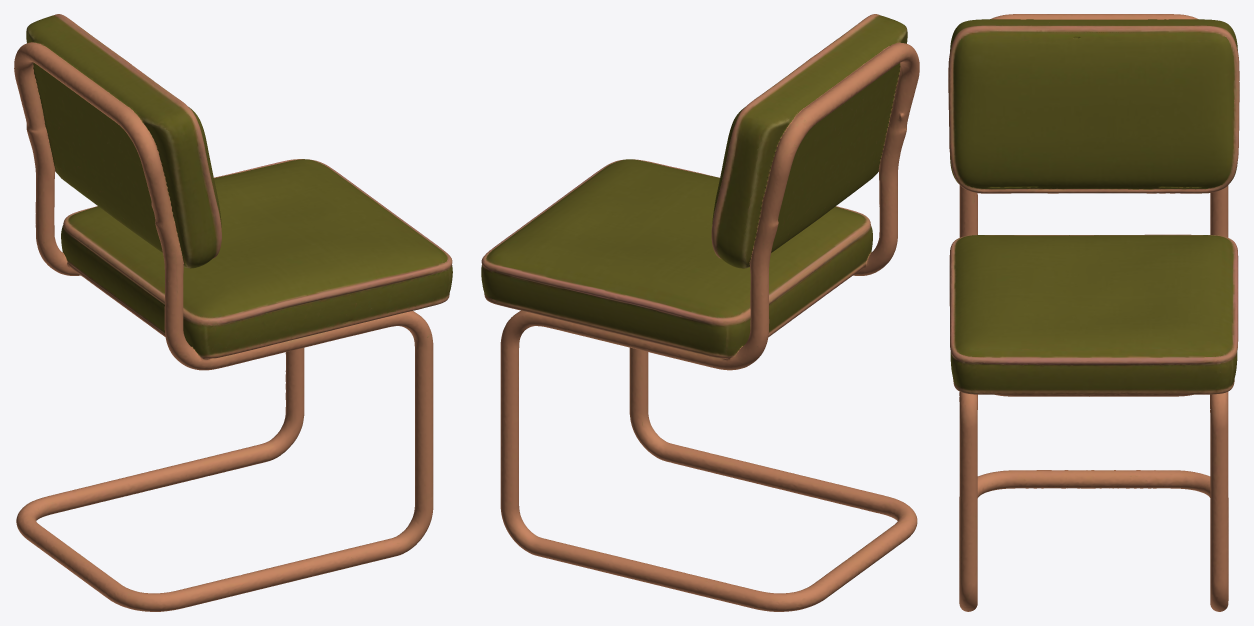
The model's file is chair-3.glb.
3 renders of one model, left to right at view 1: azimuth 30°, elevation 25°; view 2: azimuth 150°, elevation 25°; view 3: azimuth 270°, elevation 25°, orthographic. The views are drawn at different scales.
Parts seen in each view (by area): view 1: world; view 2: world; view 3: world.
Boxes of the visible parts, bbox=[...] form: world: bbox=[14, 14, 452, 611]; world: bbox=[481, 14, 919, 611]; world: bbox=[948, 14, 1239, 611].
Bounding box in the file's own units: 0.6814 × 1 × 0.5464.
1 material, 1 textured.
